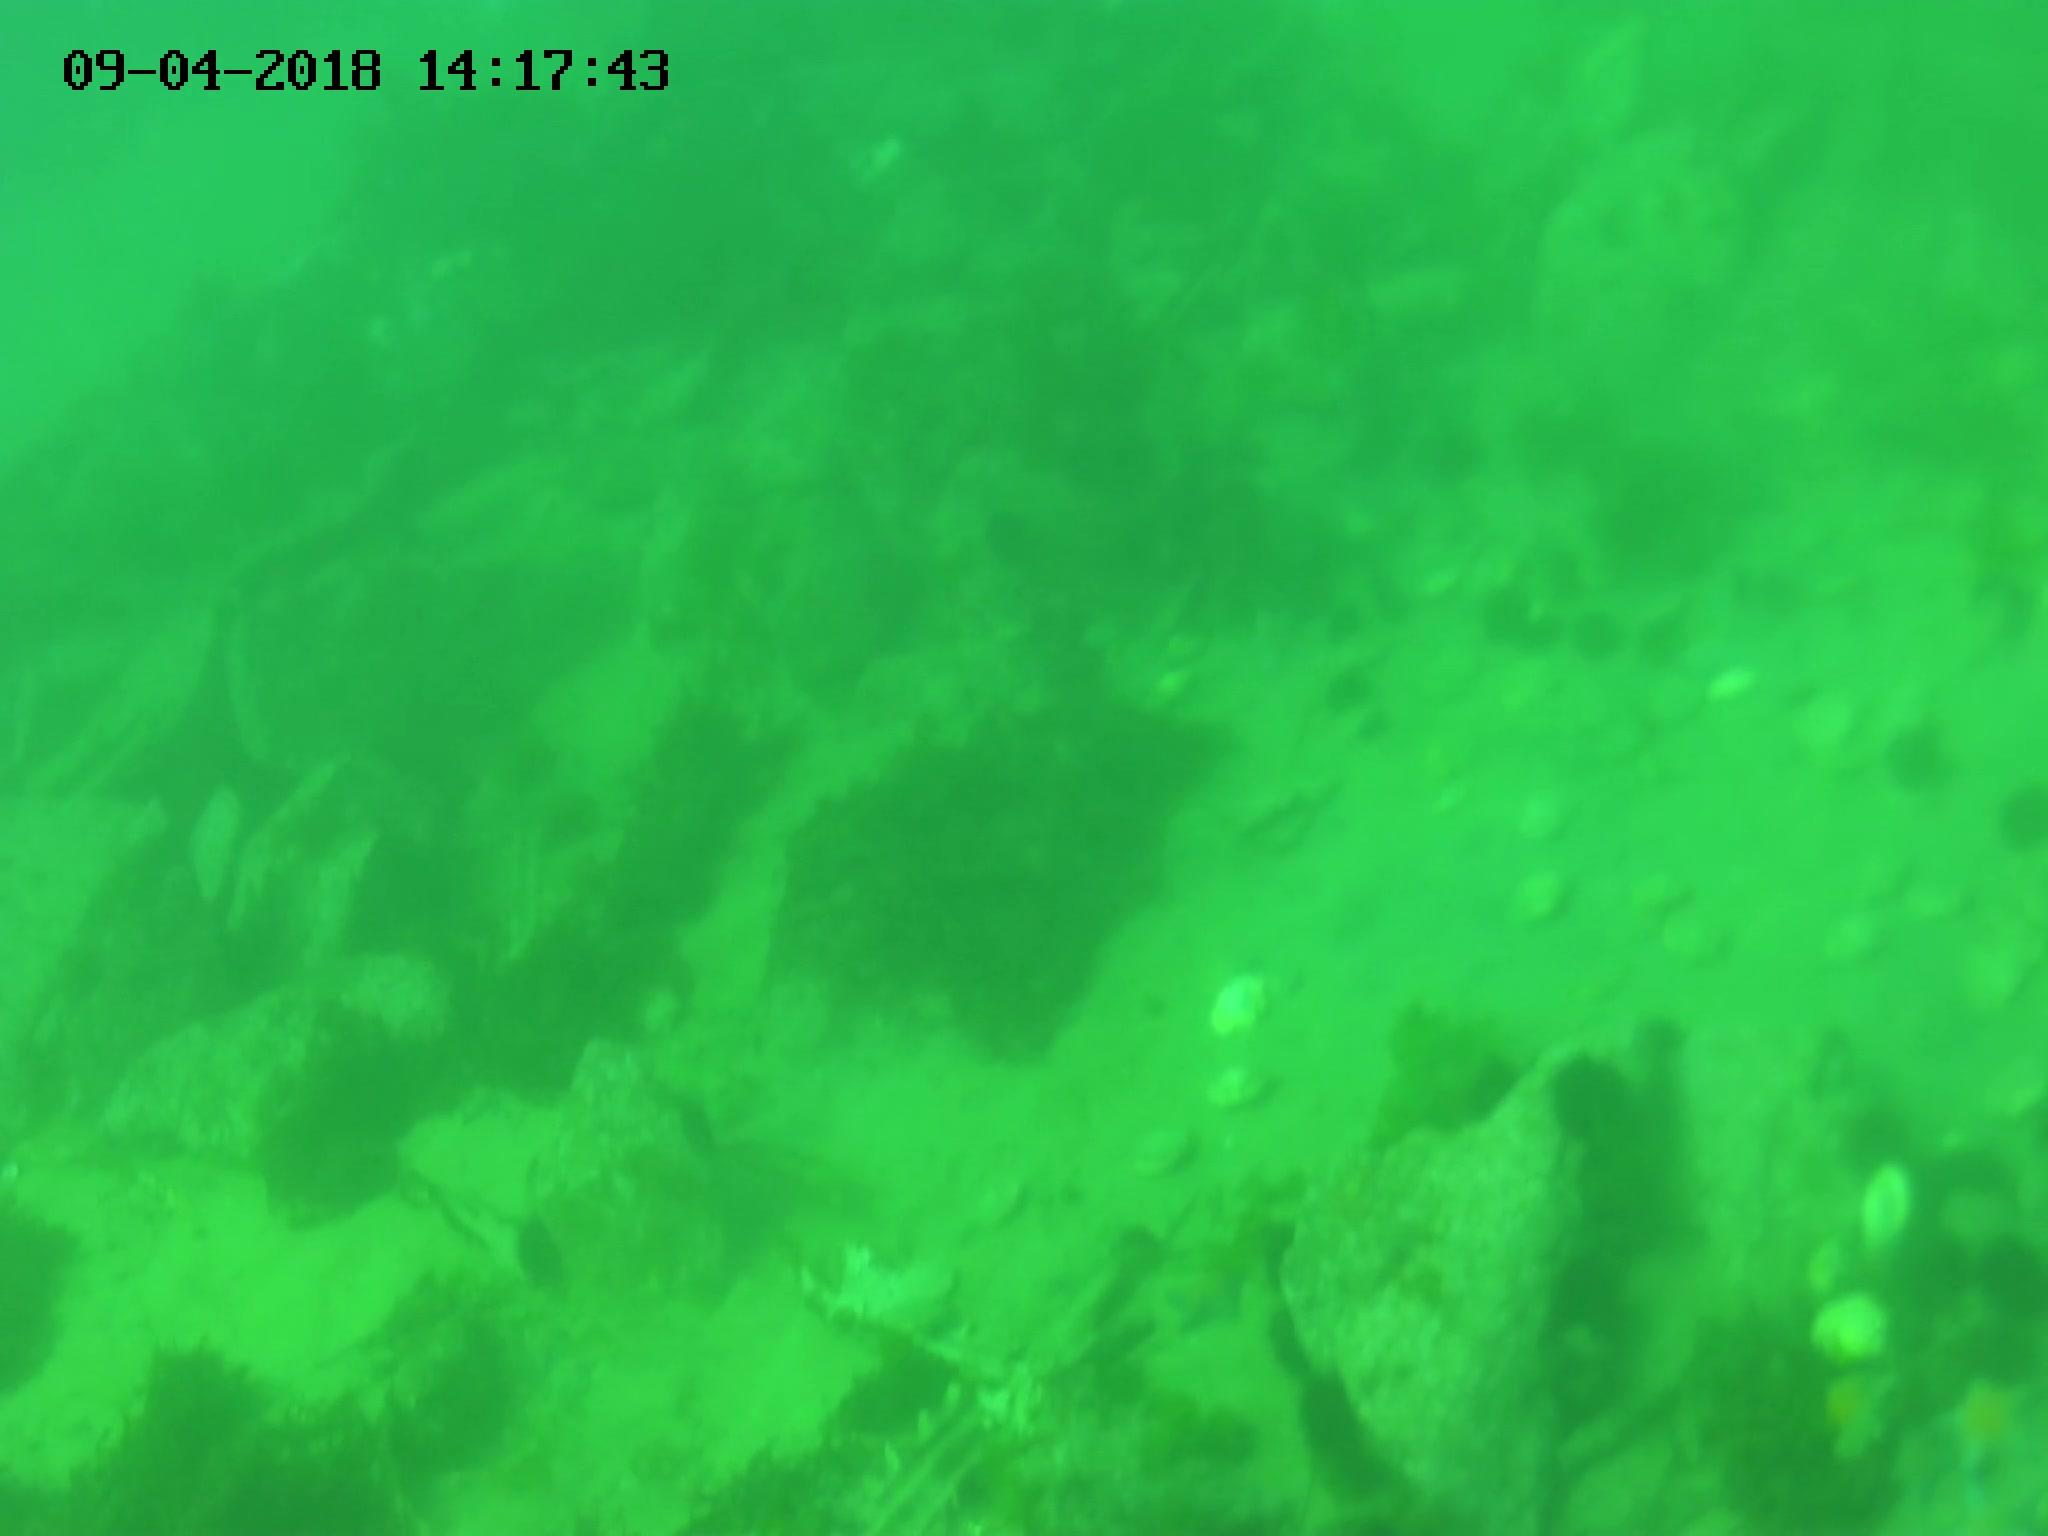echinus: (1972, 1229, 2045, 1320), (1545, 1054, 1624, 1133), (1295, 1368, 1364, 1452), (1569, 608, 1629, 678), (1888, 729, 1948, 799), (1471, 589, 1529, 650), (1624, 613, 1680, 670), (1329, 666, 1380, 720)
scallop: (184, 791, 253, 905), (1808, 1292, 1895, 1368), (1951, 945, 2037, 1016), (1856, 1167, 1916, 1267), (1205, 971, 1277, 1039), (1514, 873, 1579, 934), (1619, 874, 1696, 925), (1824, 921, 1895, 975), (1655, 913, 1725, 963), (1132, 1133, 1200, 1179), (1201, 1068, 1272, 1112), (1524, 794, 1582, 841), (1916, 874, 1972, 920), (1863, 863, 1916, 908), (1705, 662, 1759, 703)
starfish: (1935, 1371, 2048, 1471), (1819, 1359, 1903, 1463)
